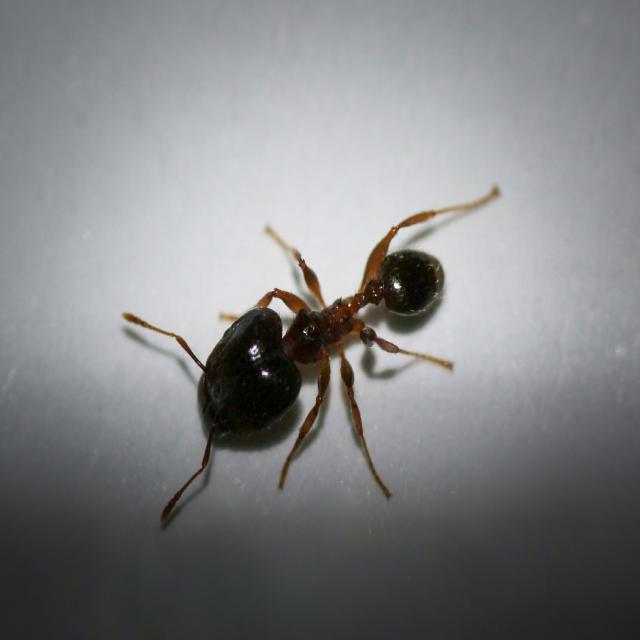ants: (119, 194, 459, 514)
